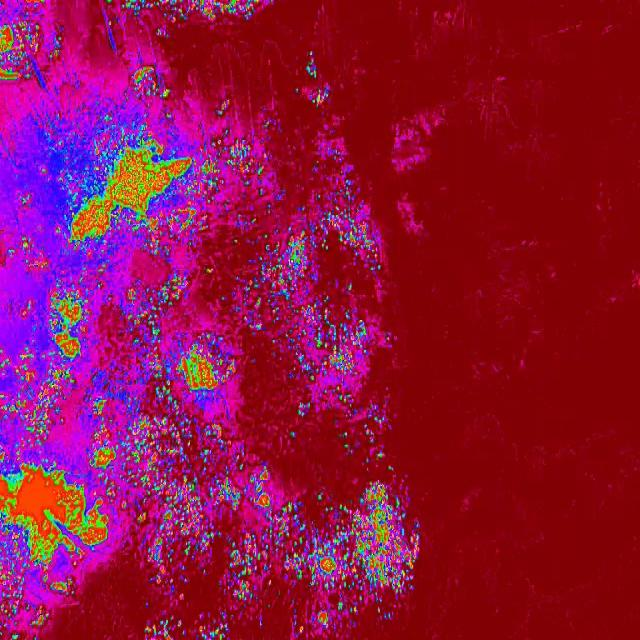fire: (257, 218, 398, 404), (286, 484, 447, 638), (137, 419, 286, 585), (58, 136, 222, 242), (0, 462, 120, 580), (0, 354, 84, 450), (164, 336, 247, 403), (124, 276, 196, 346), (0, 23, 76, 88), (0, 581, 82, 638), (104, 1, 284, 26), (86, 399, 137, 479), (41, 288, 92, 366), (136, 610, 254, 640), (321, 168, 374, 222), (223, 135, 273, 191), (130, 63, 182, 105), (10, 237, 60, 277), (301, 61, 339, 110), (80, 247, 117, 281), (372, 446, 404, 479), (215, 93, 241, 119), (231, 582, 261, 602), (20, 298, 38, 326), (120, 494, 135, 516)
